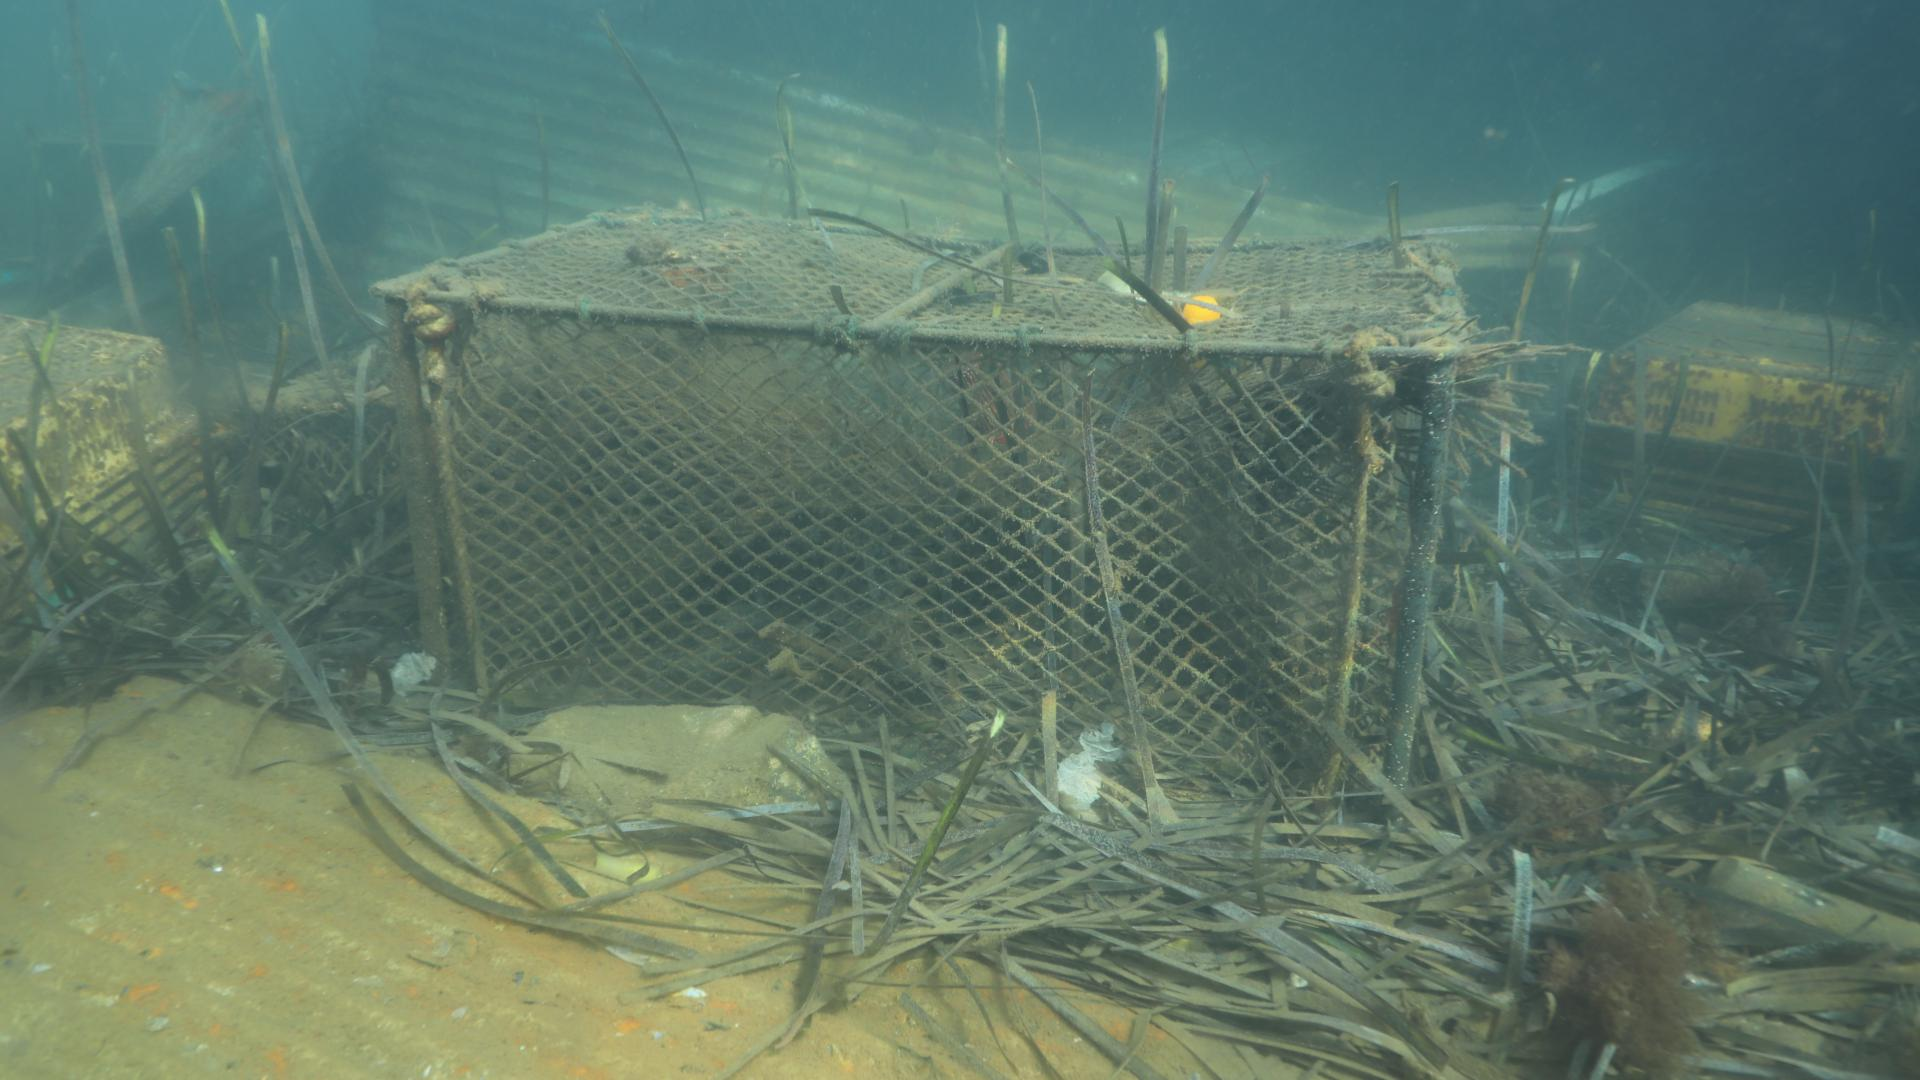rectangular fish trap: (372, 199, 1474, 843)
